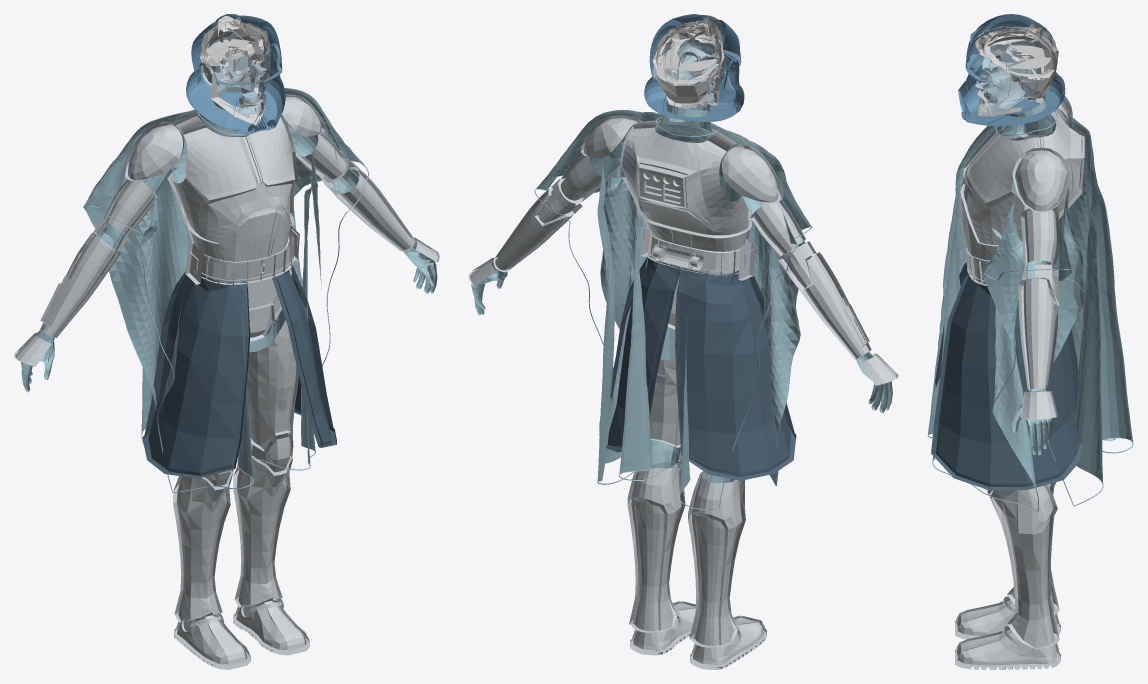
The model's file is 821_salty.glb.
3 views of the same model, side by side, from view 1: azimuth 30°, elevation 25°; view 2: azimuth 150°, elevation 25°; view 3: azimuth 270°, elevation 25° (orthographic).
Visible parts, largest first — view 1: bg_01_armor__option_00_clone_armor.smd__mesh_00, bg_05_kama__option_00_kama.smd__mesh_00, bg_06_Poncho__option_01_poncho.smd__mesh_00, bg_00_body__option_00_body.smd__mesh_00, bg_02_helmet__option_00_helmet_engineer.smd__mesh_00, bg_02_helmet__option_01_new_head.smd__mesh_00, bg_04_Facial Hair__option_05_fhair_beard.smd__mesh_00; view 2: bg_01_armor__option_00_clone_armor.smd__mesh_00, bg_05_kama__option_00_kama.smd__mesh_00, bg_06_Poncho__option_01_poncho.smd__mesh_00, bg_00_body__option_00_body.smd__mesh_00, bg_02_helmet__option_00_helmet_engineer.smd__mesh_00, bg_02_helmet__option_01_new_head.smd__mesh_00, bg_03_Hair__option_04_hair4_reference.smd__mesh_00, bg_03_Hair__option_15_hair_slick.smd__mesh_00; view 3: bg_01_armor__option_00_clone_armor.smd__mesh_00, bg_06_Poncho__option_01_poncho.smd__mesh_00, bg_05_kama__option_00_kama.smd__mesh_00, bg_02_helmet__option_00_helmet_engineer.smd__mesh_00, bg_02_helmet__option_01_new_head.smd__mesh_00, bg_00_body__option_00_body.smd__mesh_00, bg_03_Hair__option_15_hair_slick.smd__mesh_00, bg_03_Hair__option_04_hair4_reference.smd__mesh_00, bg_03_Hair__option_10_clone_hair_party.smd__mesh_00, bg_04_Facial Hair__option_05_fhair_beard.smd__mesh_00, bg_03_Hair__option_13_hair_gree.smd__mesh_00, bg_03_Hair__option_08_clone_hair_elvis.smd__mesh_00 (+3 smaller).
Part boxes in pixels (left/top/right/bottom): bg_01_armor__option_00_clone_armor.smd__mesh_00: left=14, top=94, right=439, bottom=669; bg_05_kama__option_00_kama.smd__mesh_00: left=142, top=265, right=336, bottom=478; bg_06_Poncho__option_01_poncho.smd__mesh_00: left=83, top=88, right=368, bottom=493; bg_00_body__option_00_body.smd__mesh_00: left=19, top=101, right=437, bottom=621; bg_02_helmet__option_00_helmet_engineer.smd__mesh_00: left=186, top=14, right=285, bottom=134; bg_02_helmet__option_01_new_head.smd__mesh_00: left=201, top=28, right=270, bottom=116; bg_04_Facial Hair__option_05_fhair_beard.smd__mesh_00: left=211, top=58, right=265, bottom=125; bg_01_armor__option_00_clone_armor.smd__mesh_00: left=468, top=115, right=898, bottom=669; bg_05_kama__option_00_kama.smd__mesh_00: left=605, top=257, right=796, bottom=480; bg_06_Poncho__option_01_poncho.smd__mesh_00: left=534, top=110, right=812, bottom=509; bg_00_body__option_00_body.smd__mesh_00: left=471, top=101, right=892, bottom=482; bg_02_helmet__option_00_helmet_engineer.smd__mesh_00: left=644, top=14, right=744, bottom=121; bg_02_helmet__option_01_new_head.smd__mesh_00: left=652, top=32, right=724, bottom=127; bg_03_Hair__option_04_hair4_reference.smd__mesh_00: left=656, top=29, right=724, bottom=103; bg_03_Hair__option_15_hair_slick.smd__mesh_00: left=659, top=27, right=718, bottom=71; bg_01_armor__option_00_clone_armor.smd__mesh_00: left=955, top=102, right=1084, bottom=669; bg_06_Poncho__option_01_poncho.smd__mesh_00: left=927, top=95, right=1133, bottom=512; bg_05_kama__option_00_kama.smd__mesh_00: left=931, top=262, right=1082, bottom=490; bg_02_helmet__option_00_helmet_engineer.smd__mesh_00: left=958, top=14, right=1065, bottom=126; bg_02_helmet__option_01_new_head.smd__mesh_00: left=975, top=34, right=1044, bottom=111; bg_00_body__option_00_body.smd__mesh_00: left=978, top=97, right=1056, bottom=606; bg_03_Hair__option_15_hair_slick.smd__mesh_00: left=995, top=30, right=1051, bottom=69; bg_03_Hair__option_04_hair4_reference.smd__mesh_00: left=984, top=29, right=1058, bottom=98; bg_03_Hair__option_10_clone_hair_party.smd__mesh_00: left=985, top=26, right=1057, bottom=82; bg_04_Facial Hair__option_05_fhair_beard.smd__mesh_00: left=977, top=52, right=1021, bottom=116; bg_03_Hair__option_13_hair_gree.smd__mesh_00: left=987, top=34, right=1052, bottom=79; bg_03_Hair__option_08_clone_hair_elvis.smd__mesh_00: left=975, top=26, right=1057, bottom=102.
Size of the model in its own units: 52.96 by 74.56 by 22.24.
